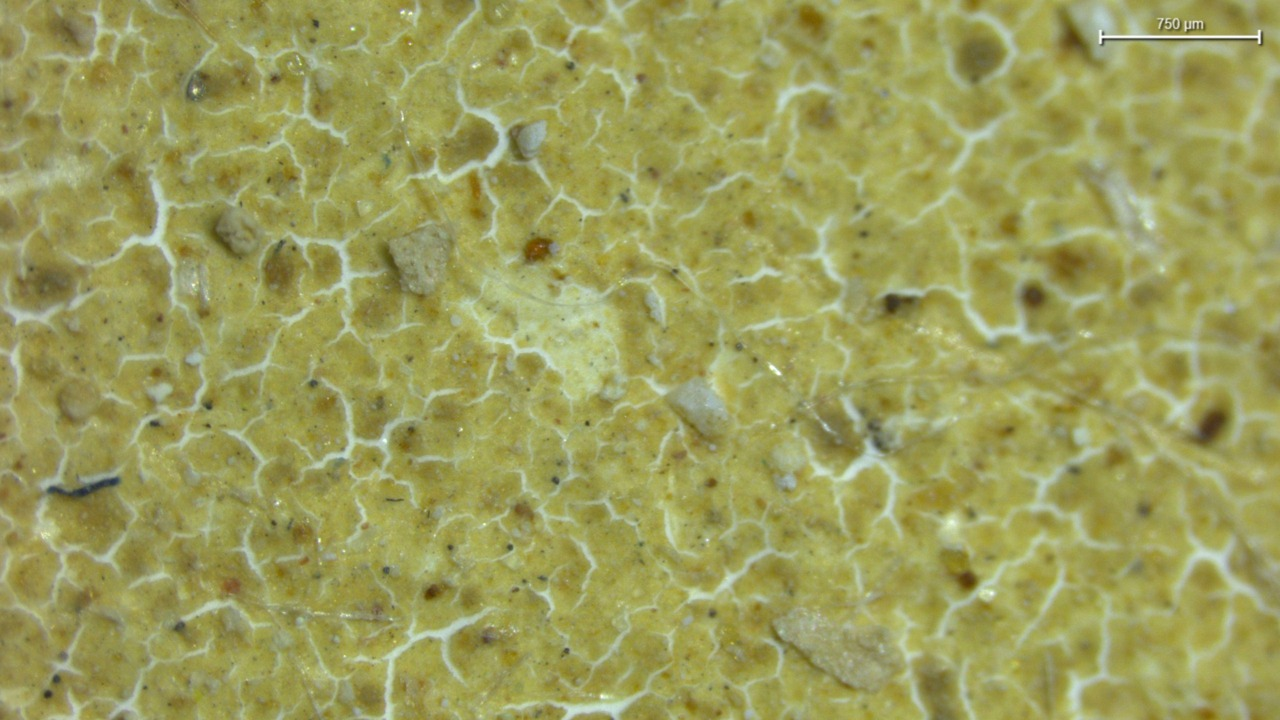microplastic_fragment: (773, 608, 901, 691), (388, 223, 453, 295), (667, 377, 728, 436), (214, 206, 263, 257)
